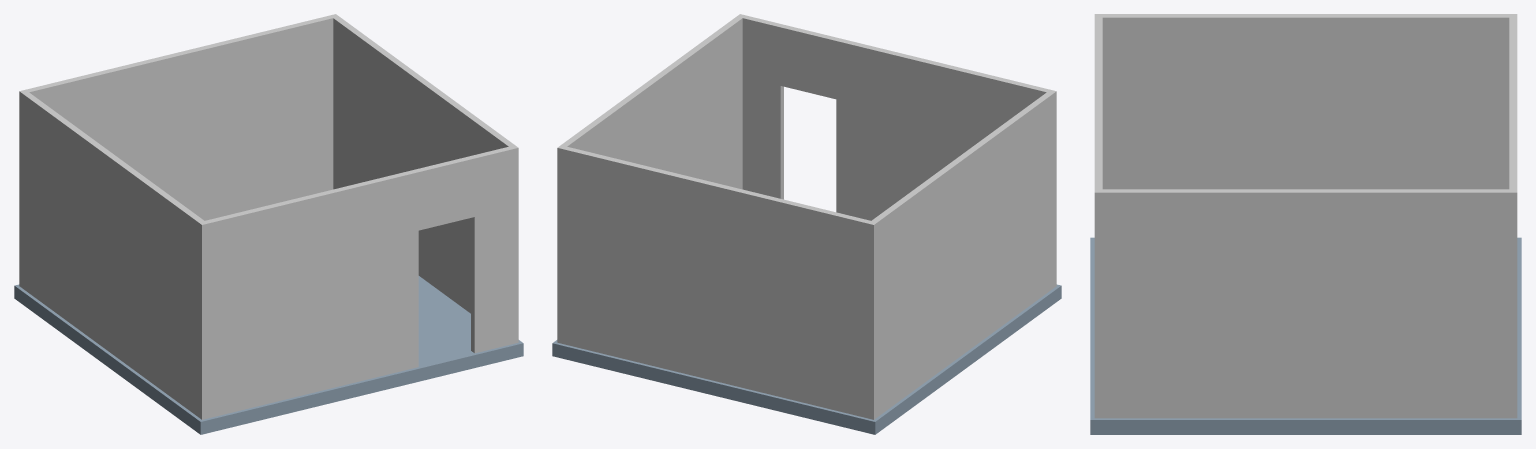
Rendered from room2.gltf.
The picture shows the model from 3 angles, left to right: view 1: azimuth 30°, elevation 25°; view 2: azimuth 150°, elevation 25°; view 3: azimuth 270°, elevation 25°; orthographic projection. The views are drawn at different scales.
Parts seen in each view (by area): view 1: 壁, Slab; view 2: 壁, Slab; view 3: 壁, Slab.
Part boxes in pixels (left/top/right/bottom): 壁: left=19, top=14, right=518, bottom=419; Slab: left=14, top=276, right=523, bottom=434; 壁: left=557, top=14, right=1056, bottom=419; Slab: left=552, top=284, right=1061, bottom=434; 壁: left=1094, top=14, right=1517, bottom=418; Slab: left=1090, top=237, right=1521, bottom=434.
Bounding box in the file's own units: 5.2 × 3.2 × 5.2.
